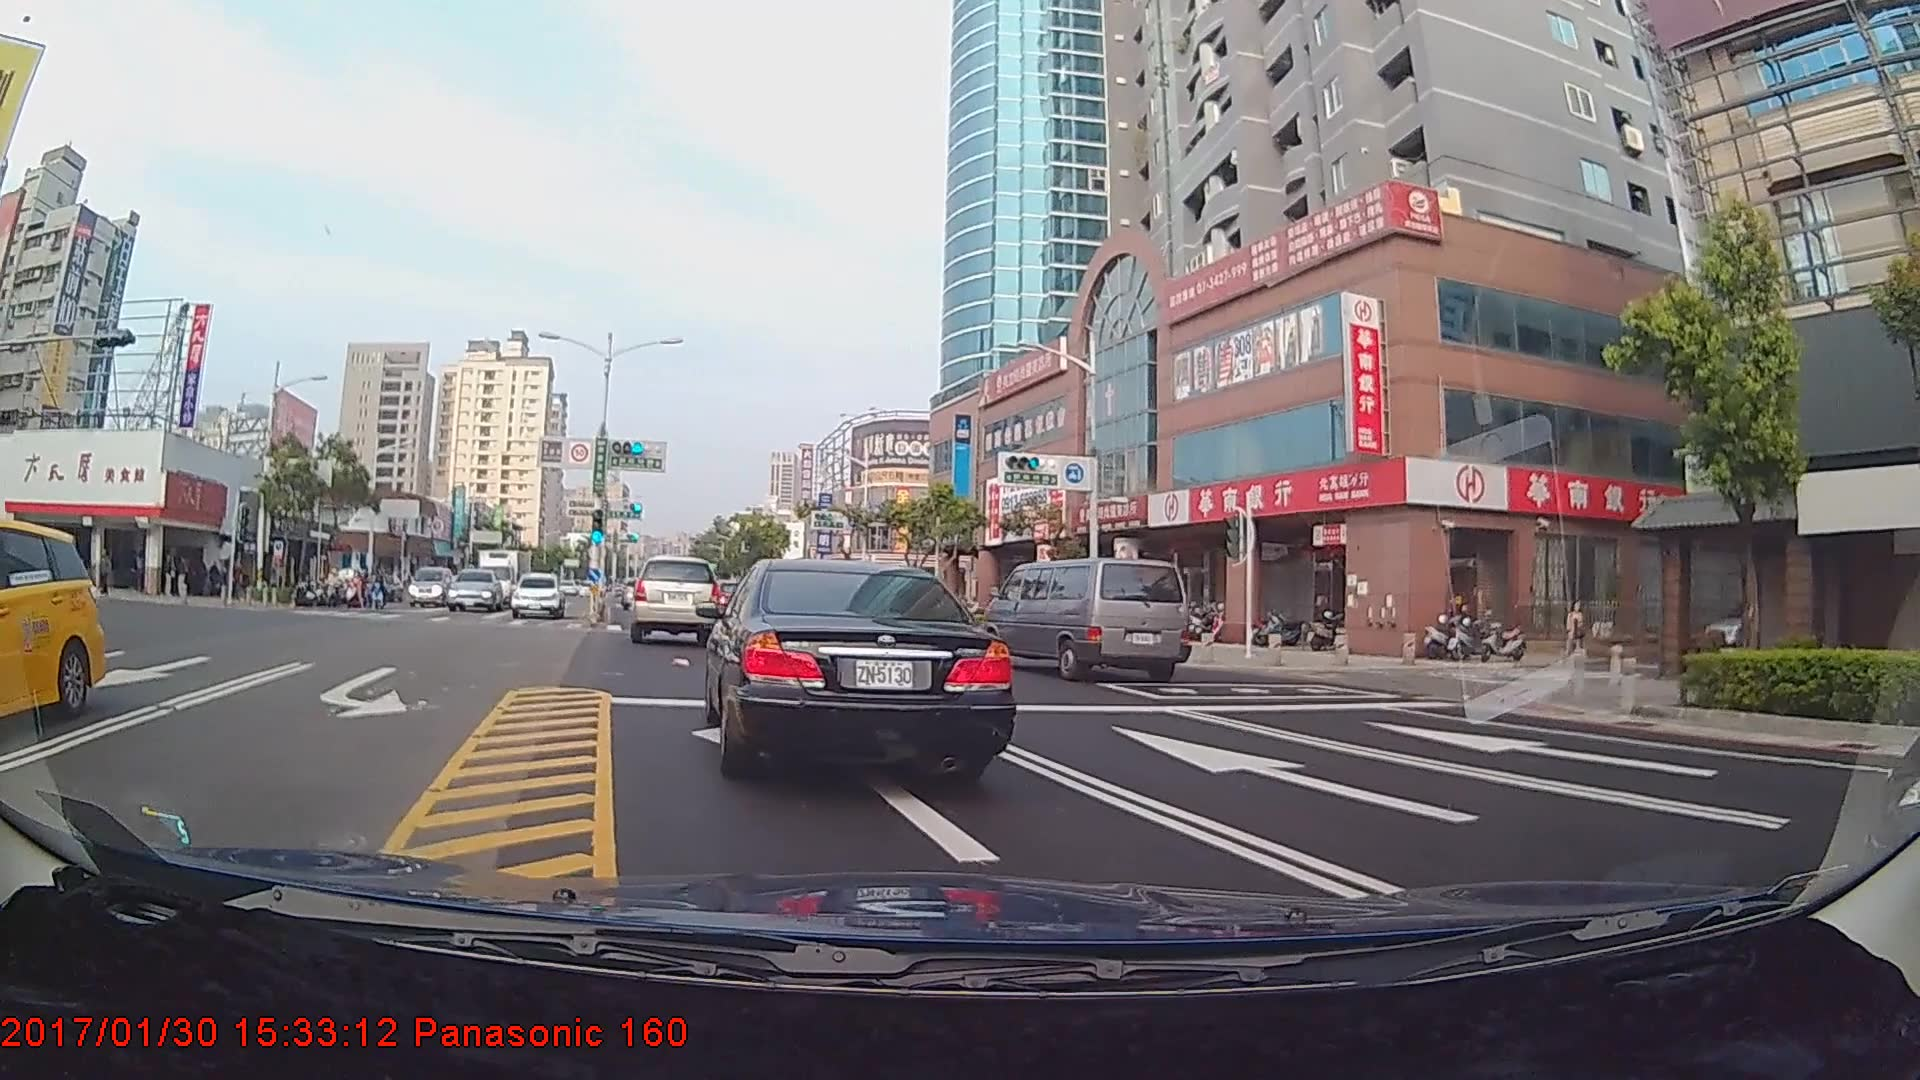pedestrian: (1566, 600, 1586, 663), (97, 549, 117, 604), (176, 554, 196, 602), (160, 551, 180, 600)
vehicle: (711, 549, 1010, 780), (0, 505, 109, 740), (986, 555, 1188, 681), (626, 554, 721, 647), (483, 545, 537, 608), (447, 568, 505, 613), (511, 571, 564, 619), (408, 566, 460, 611)
